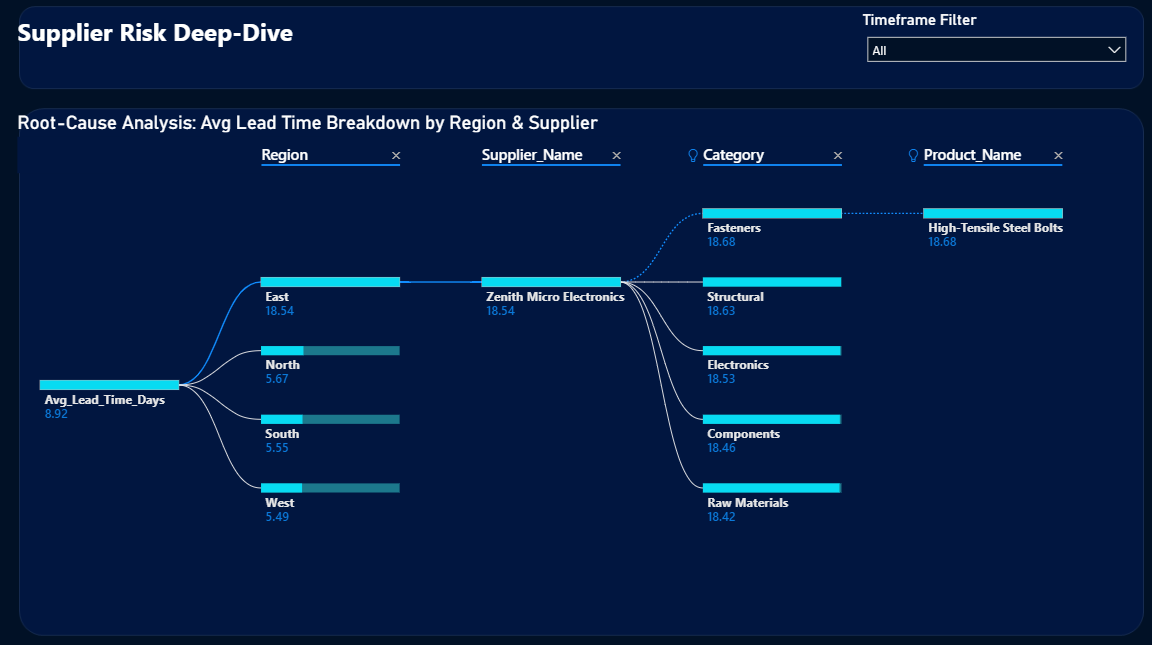

This screenshot's page, from the dashboard's own definition file:
{"tool":"powerbi","page":{"name":"Details","canvas":[1280,720],"ordinal":1},"visuals":[{"type":"textbox","box":[16,16,384,80],"z":0},{"type":"decompositionTreeVisual","title":"Root-Cause Analysis: Avg Lead Time Breakdown by Region & Supplier","fields":{"Analyze":["_Calculated_Measures.Avg_Lead_Time_Days"],"ExplainBy":["Dim_Suppliers.Region","Dim_Suppliers.Supplier_Name","Dim_Products.Category","Dim_Products.Product_Name"]},"box":[16,128,1232,576],"z":1000},{"type":"slicer","title":"Timeframe Filter","fields":{"Values":["Dim_Calendar.Month_Name"]},"box":[944,16,304,80],"z":2000}]}

Visuals, with their boxes in screenshot pixels (x1, y1, x2, y2), scaled from the page's 1280x720 canvas onto the 1152x645 screenshot:
textbox: [x1=14, y1=14, x2=360, y2=86]
"Root-Cause Analysis: Avg Lead Time Breakdown by Region & Supplier" decompositionTreeVisual: [x1=14, y1=115, x2=1123, y2=631]
"Timeframe Filter" slicer: [x1=850, y1=14, x2=1123, y2=86]
